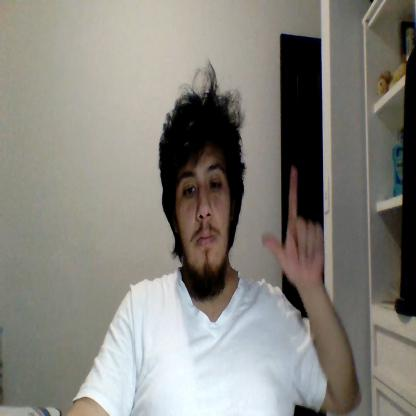L: (262, 166, 324, 281)
